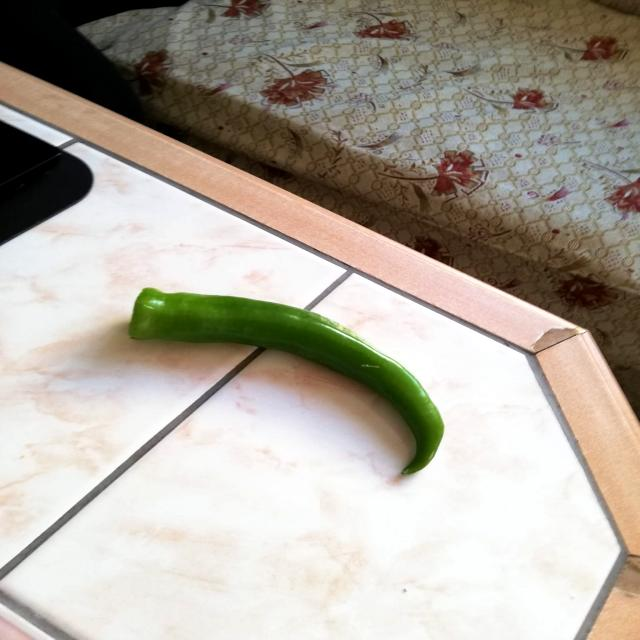green pepper: (121, 279, 453, 480)
